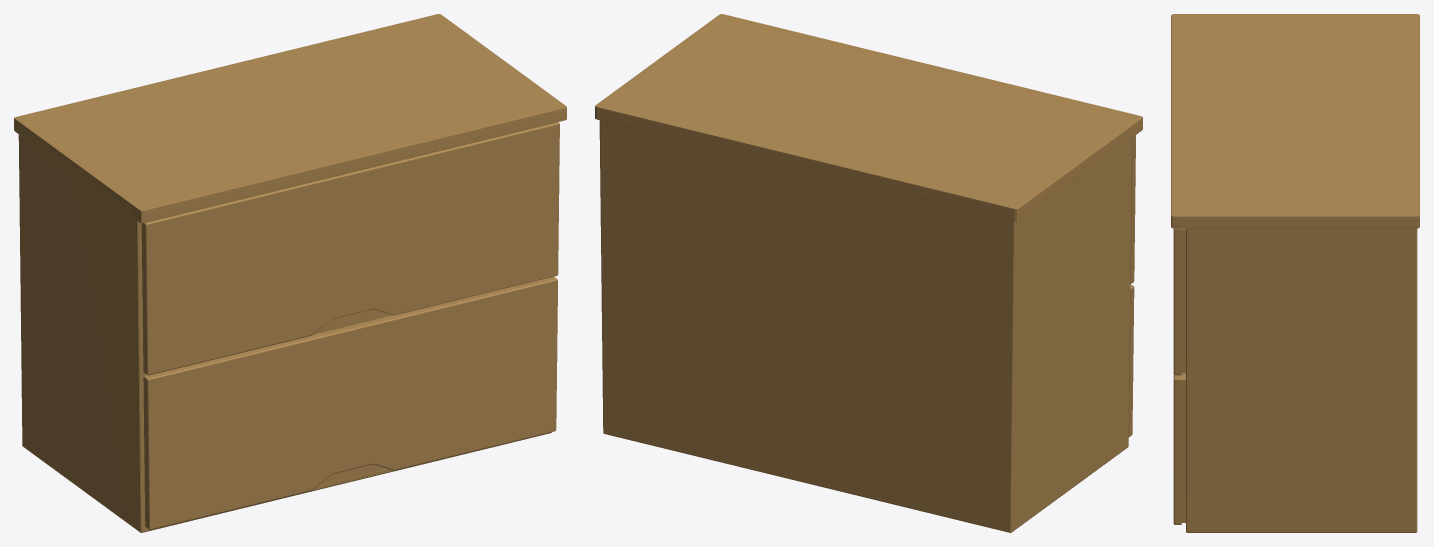
File: chestExport.fbx
3 renders of one model, left to right at view 1: azimuth 30°, elevation 25°; view 2: azimuth 150°, elevation 25°; view 3: azimuth 270°, elevation 25°, orthographic. The views are drawn at different scales.
Visible parts, largest first — view 1: chest; view 2: chest; view 3: chest.
Boxes of the visible parts, <box> form: chest: <box>14,14,566,532</box>; chest: <box>595,14,1142,532</box>; chest: <box>1171,14,1419,532</box>.
Bounding box in the file's own units: 82.87 × 61.23 × 43.03.
1 material, 1 textured.
